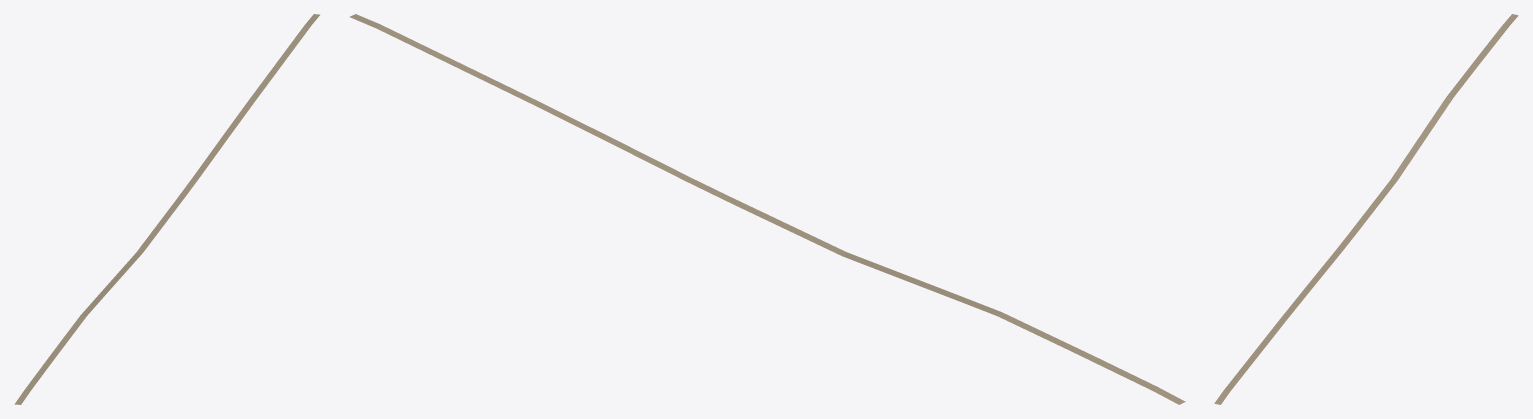
File: farm_-19_-29_track.glb
3 views of the same model, side by side, from view 1: azimuth 90°, elevation 25°; view 2: azimuth 150°, elevation 25°; view 3: azimuth 270°, elevation 25° (orthographic). The views are drawn at different scales.
Visible parts, largest first — view 1: geometry_0; view 2: geometry_0; view 3: geometry_0.
Boxes of the visible parts, x1=… form: geometry_0: x1=14, y1=14, x2=319, y2=404; geometry_0: x1=349, y1=14, x2=1185, y2=404; geometry_0: x1=1214, y1=14, x2=1518, y2=404.
Size of the model in its own units: 428 by 5.29 by 141.
